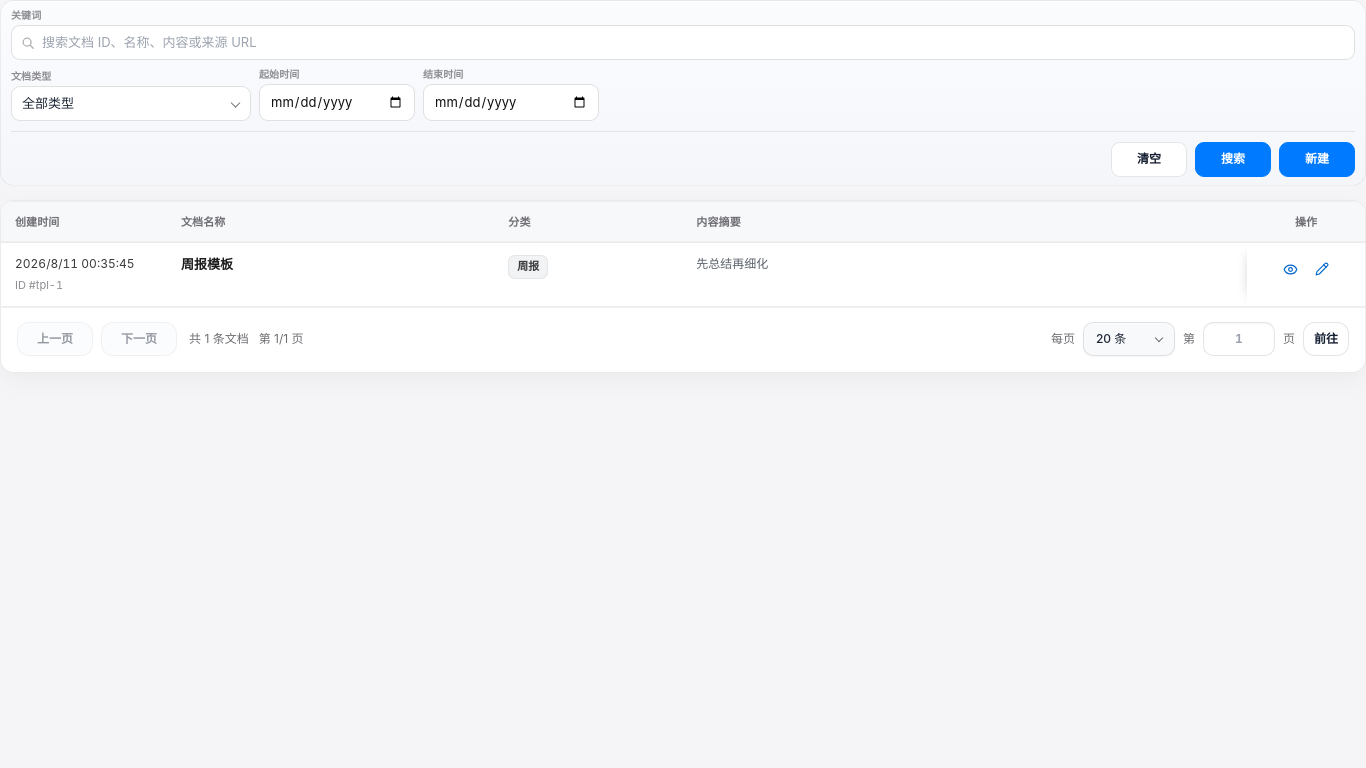
Test: Bake 详情展示优化 › 摘要生成期间自动更新，完成后停止轮询
Click the button named "查看文档「周报模板」详情". click: click(1290, 269)
box: [1276, 255, 1304, 283]
Wait 15000 ms
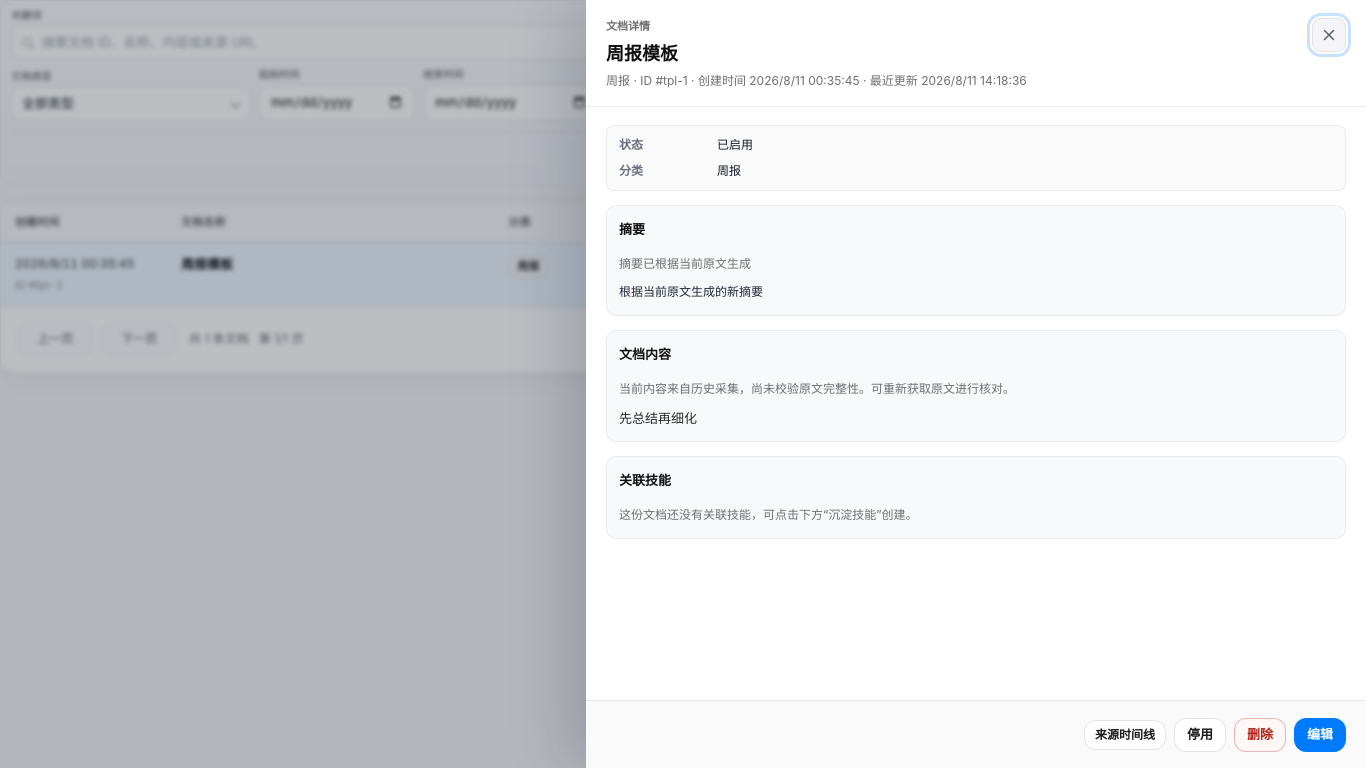
Now the text "摘要已根据当前原文生成" is shown, box [619, 256, 751, 271]
Now the text "根据当前原文生成的新摘要" is shown, box [619, 284, 763, 299]
